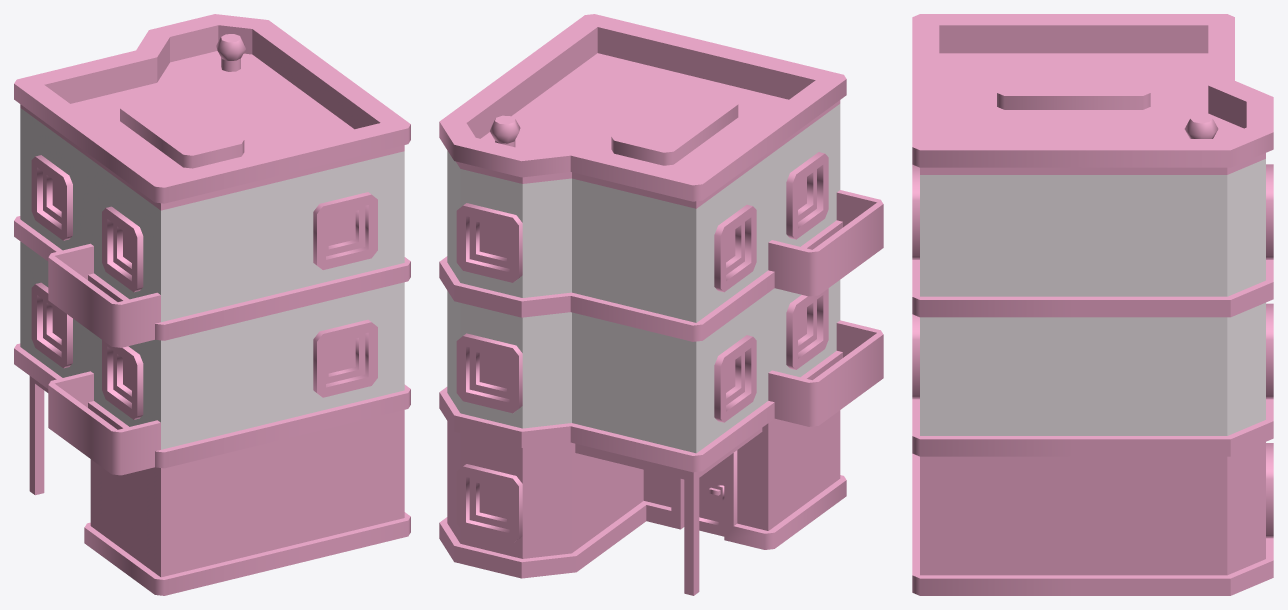
The model's file is building_b.obj.
3 views of the same model, side by side, from view 1: azimuth 30°, elevation 25°; view 2: azimuth 150°, elevation 25°; view 3: azimuth 270°, elevation 25° (orthographic). The views are drawn at different scales.
Visible parts, largest first — view 1: building-b; view 2: building-b; view 3: building-b.
Boxes of the visible parts, bbox=[...] form: building-b: bbox=[14, 14, 410, 595]; building-b: bbox=[439, 14, 883, 595]; building-b: bbox=[912, 14, 1273, 595].
Size of the model in its own units: 19.4 by 25.86 by 18.8.
1 material, 1 textured.
